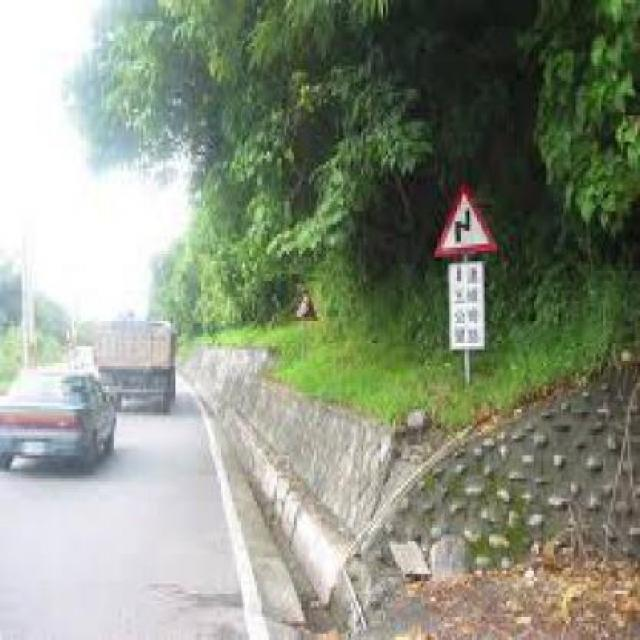traffic_sign: (432, 181, 502, 261)
